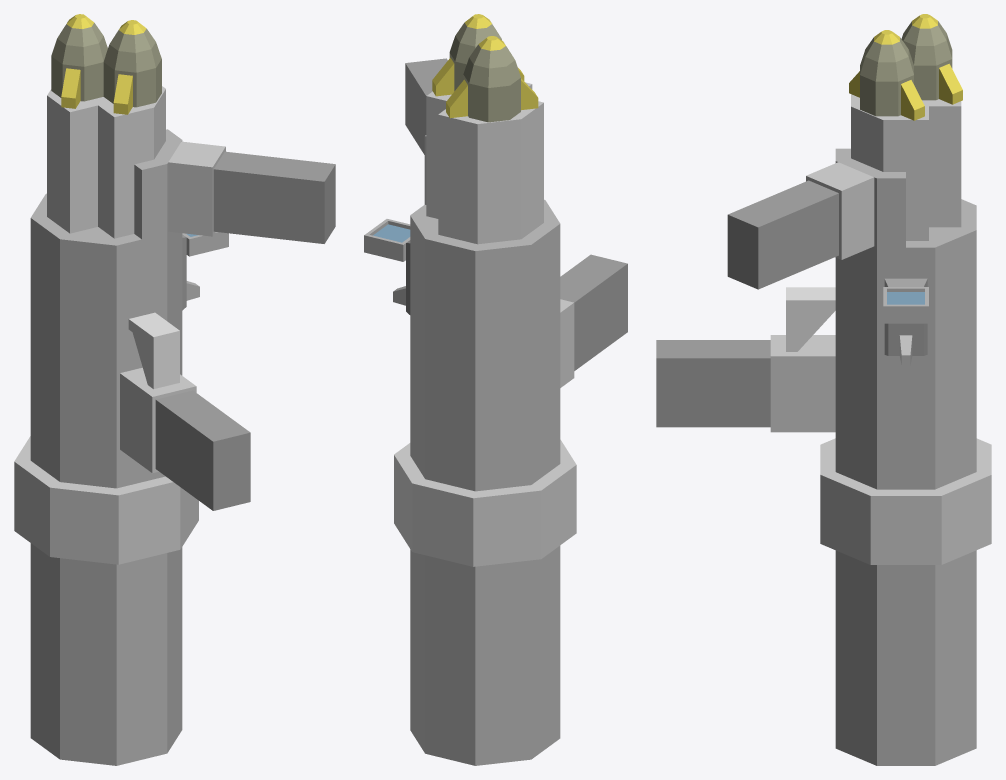
File: rocketlaunchermodern.fbx
The picture shows the model from 3 angles, left to right: view 1: azimuth 30°, elevation 25°; view 2: azimuth 150°, elevation 25°; view 3: azimuth 270°, elevation 25°; orthographic projection.
Visible parts, largest first — view 1: imagetostl_mesh136, imagetostl_mesh269, imagetostl_mesh268, imagetostl_mesh139, imagetostl_mesh209, imagetostl_mesh270, imagetostl_mesh119, imagetostl_mesh226, imagetostl_mesh265, imagetostl_mesh237, imagetostl_mesh141, imagetostl_mesh160 (+30 smaller); view 2: imagetostl_mesh113, imagetostl_mesh125, imagetostl_mesh271, imagetostl_mesh273, imagetostl_mesh139, imagetostl_mesh270, imagetostl_mesh188, imagetostl_mesh189, imagetostl_mesh121, imagetostl_mesh122, imagetostl_mesh128, imagetostl_mesh237 (+15 smaller); view 3: imagetostl_mesh275, imagetostl_mesh128, imagetostl_mesh200, imagetostl_mesh267, imagetostl_mesh274, imagetostl_mesh239, imagetostl_mesh213, imagetostl_mesh223, imagetostl_mesh263, imagetostl_mesh197, imagetostl_mesh190, imagetostl_mesh144 (+23 smaller).
Part boxes in pixels (<box>): imagetostl_mesh136: <box>60,239,116,488</box>; imagetostl_mesh269: <box>60,558,116,765</box>; imagetostl_mesh268: <box>116,553,167,765</box>; imagetostl_mesh139: <box>30,218,59,481</box>; imagetostl_mesh209: <box>213,169,324,243</box>; imagetostl_mesh270: <box>30,543,59,759</box>; imagetostl_mesh119: <box>50,487,118,564</box>; imagetostl_mesh226: <box>116,164,167,318</box>; imagetostl_mesh265: <box>118,482,180,564</box>; imagetostl_mesh237: <box>155,400,213,510</box>; imagetostl_mesh141: <box>114,107,153,238</box>; imagetostl_mesh160: <box>70,105,97,233</box>; imagetostl_mesh113: <box>475,245,531,491</box>; imagetostl_mesh125: <box>425,239,475,491</box>; imagetostl_mesh271: <box>475,560,531,765</box>; imagetostl_mesh273: <box>425,555,475,765</box>; imagetostl_mesh139: <box>531,224,560,484</box>; imagetostl_mesh270: <box>531,545,560,759</box>; imagetostl_mesh188: <box>477,119,521,244</box>; imagetostl_mesh189: <box>438,114,477,244</box>; imagetostl_mesh121: <box>473,490,541,566</box>; imagetostl_mesh122: <box>412,483,473,566</box>; imagetostl_mesh128: <box>410,216,425,478</box>; imagetostl_mesh237: <box>574,264,627,370</box>; imagetostl_mesh275: <box>877,565,935,765</box>; imagetostl_mesh128: <box>935,230,976,489</box>; imagetostl_mesh200: <box>835,161,876,489</box>; imagetostl_mesh267: <box>835,550,876,765</box>; imagetostl_mesh274: <box>935,550,976,765</box>; imagetostl_mesh239: <box>656,358,770,427</box>; imagetostl_mesh213: <box>758,177,841,289</box>; imagetostl_mesh223: <box>770,356,835,432</box>; imagetostl_mesh263: <box>870,496,941,564</box>; imagetostl_mesh197: <box>877,355,934,489</box>; imagetostl_mesh190: <box>929,106,961,227</box>; imagetostl_mesh144: <box>883,120,928,240</box>.
Size of the model in its own units: 4.15 by 12.36 by 5.28.
